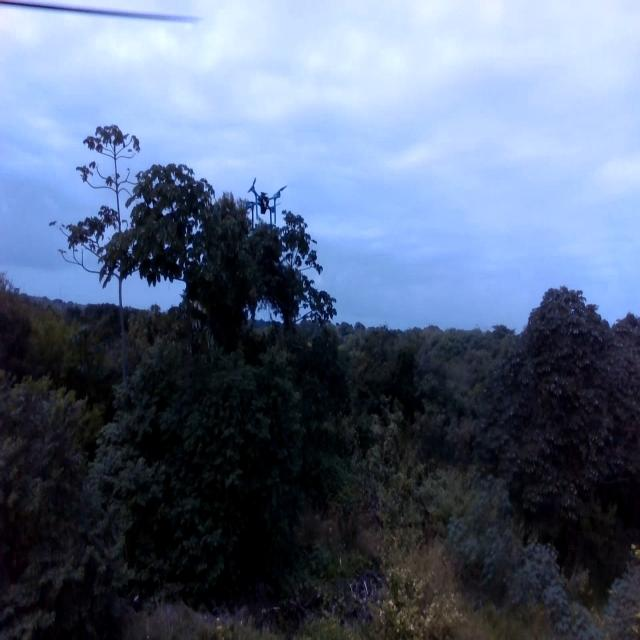-uav-: (244, 168, 288, 238)
